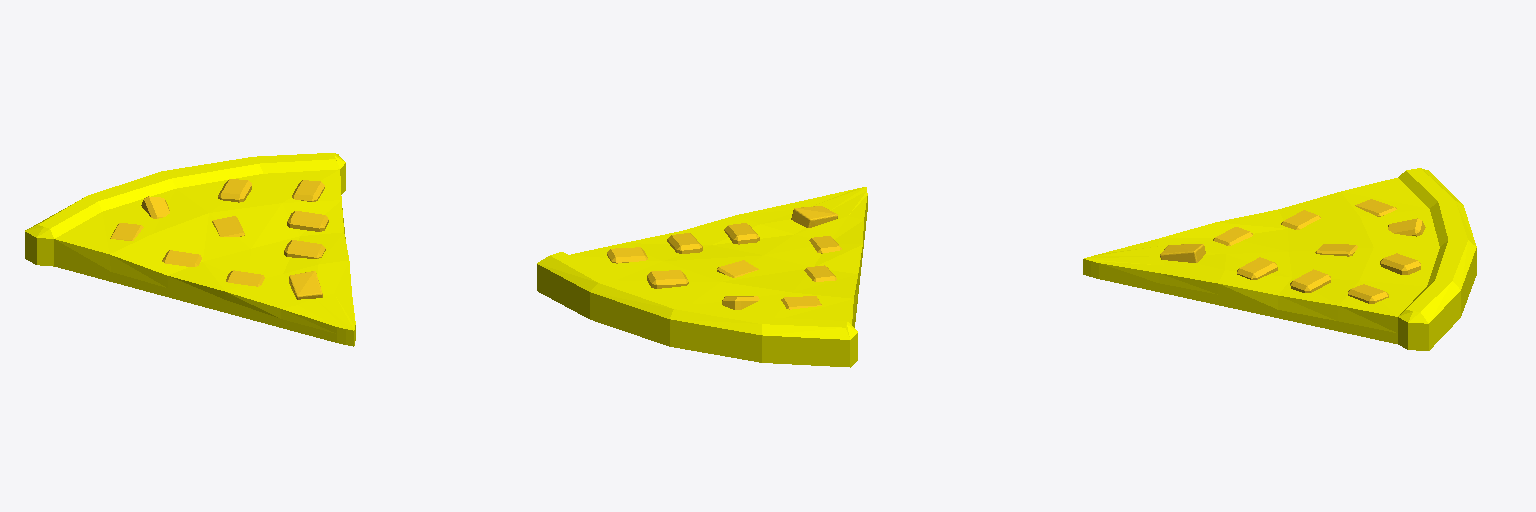
Rendered from YellowSlice.obj.
3 views of the same model, side by side, from view 1: azimuth 30°, elevation 25°; view 2: azimuth 150°, elevation 25°; view 3: azimuth 270°, elevation 25° (orthographic).
Visible parts, largest first — view 1: Pizza_Slice_Cube.003; view 2: Pizza_Slice_Cube.003; view 3: Pizza_Slice_Cube.003.
Part boxes in pixels (x1,y1,x2,y2): Pizza_Slice_Cube.003: (25,153,355,346); Pizza_Slice_Cube.003: (537,187,867,367); Pizza_Slice_Cube.003: (1083,168,1476,350).
Size of the model in its own units: 1.07 by 0.1222 by 1.16.